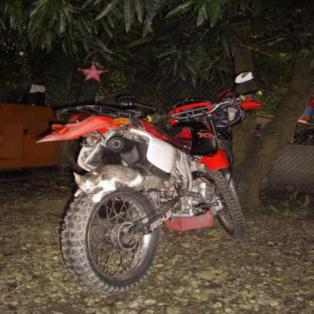Motocicleta: (31, 75, 268, 299)
